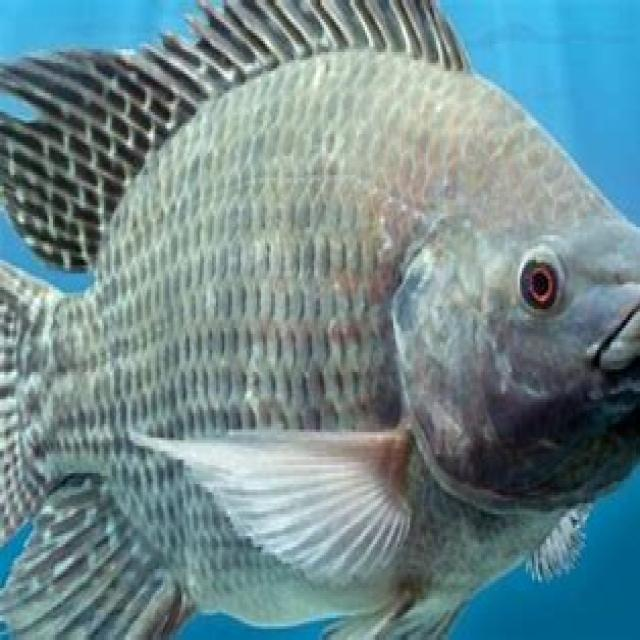Tilapia: (0, 0, 638, 637)
